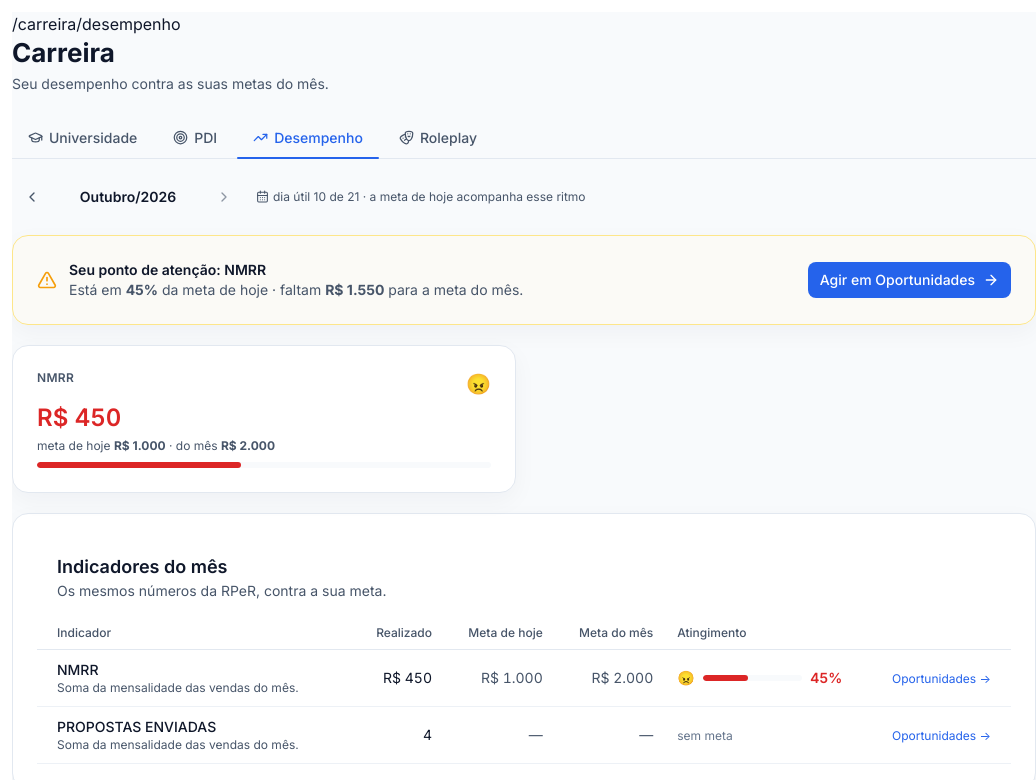
it: Desempenho › navega de mês pela URL e não avança além do corrente
Expected: the text "outubro/2026" is shown, [80,188,176,205]
Expected: the button named "Próximo mês" is disabled, [204,179,244,215]
Click the button named "Mês anterior".
click(32, 197)  # box [12,179,52,215]
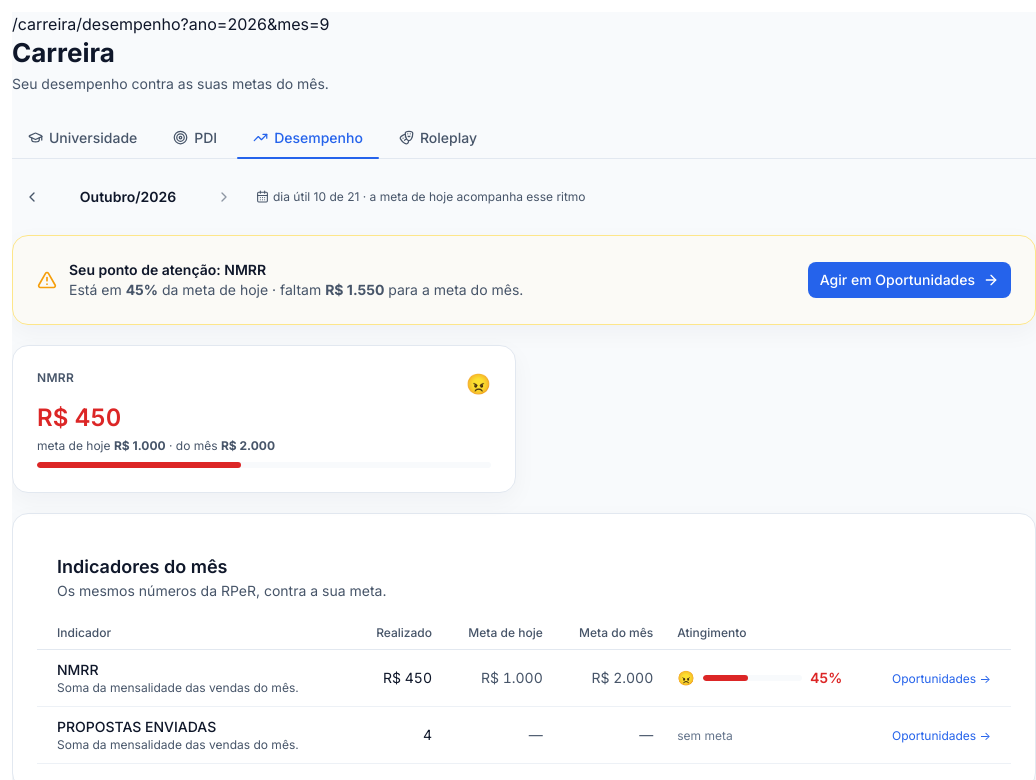
Result: the text with test id "onde" reads "/carreira/desempenho?ano=2026&mes=9" at [12,14,330,34]
